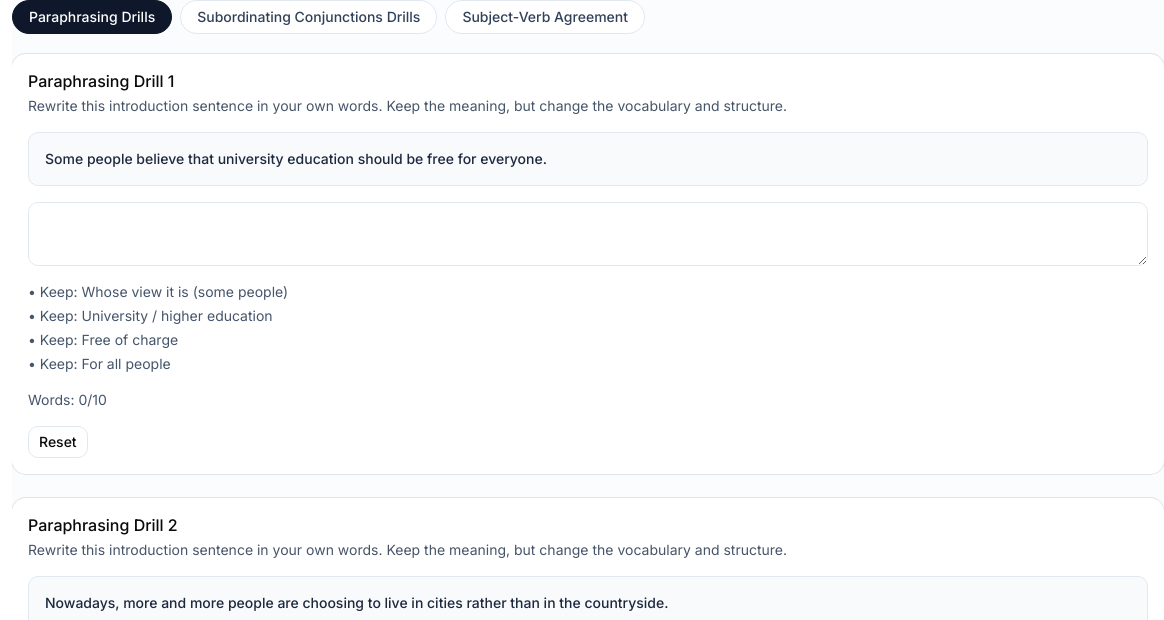
Test: PracticeBank › validates conjunction choices
Click the tab "Subordinating Conjunctions Drills": [309, 17] box [180, 0, 437, 34]
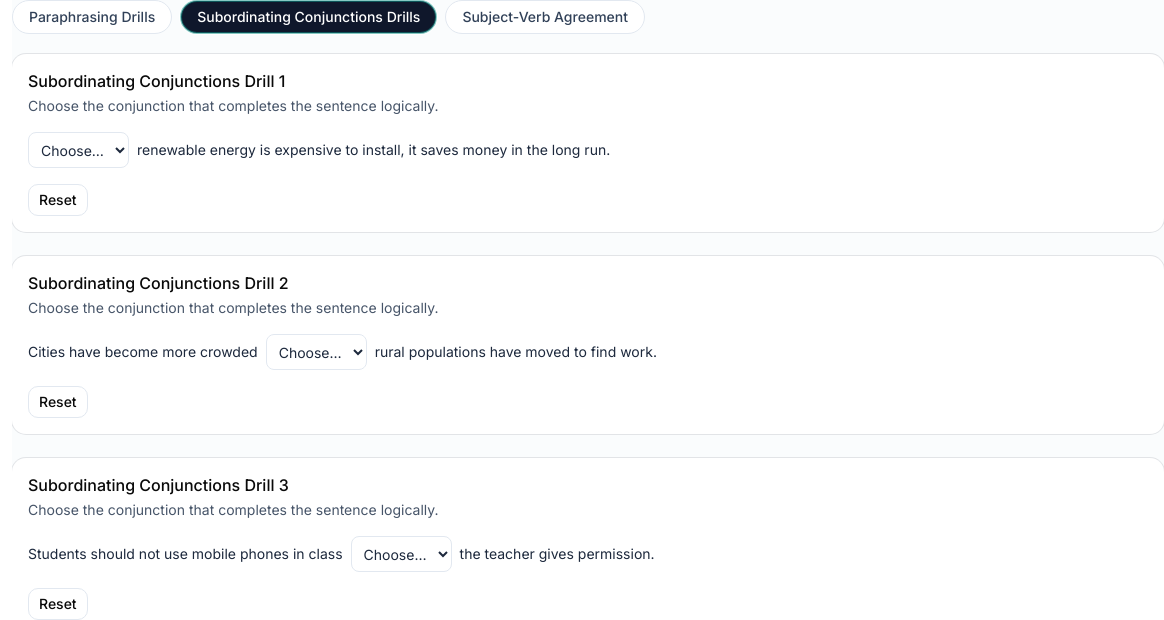
expect the number of dropdowns is 5: met
Select "Because" in the dropdown named "Conjunction 1 blank": [78, 150] box [28, 132, 129, 168]
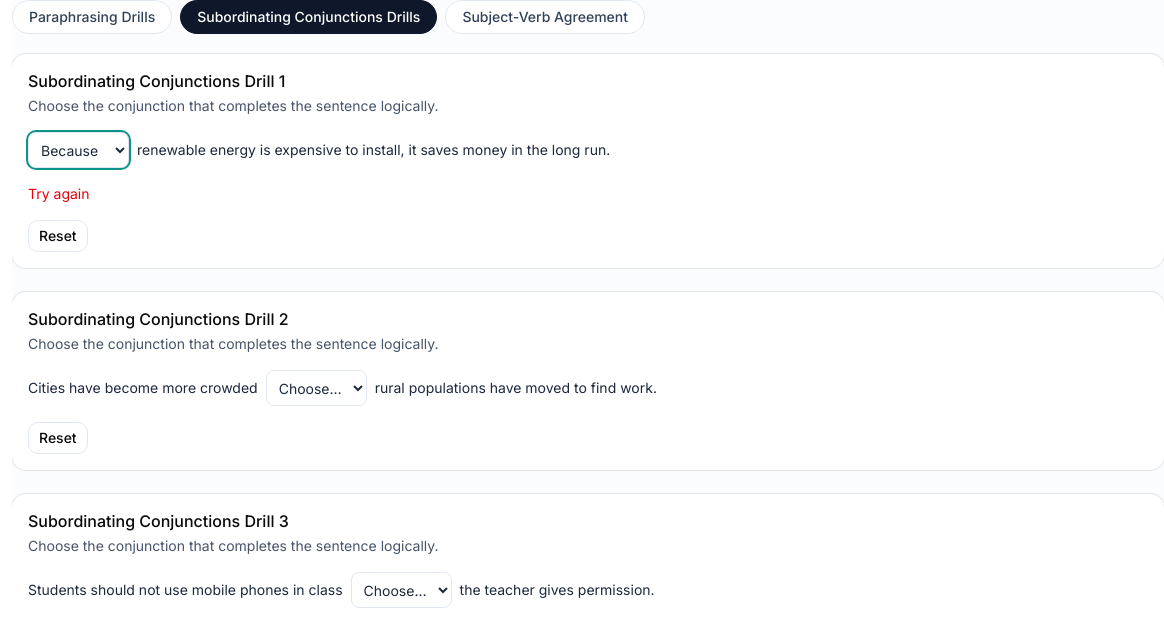
expect the text "Try again" is shown: met, box [28, 185, 90, 202]
Select "Although" in the dropdown named "Conjunction 1 blank": [78, 150] box [28, 132, 129, 168]
(page scrolled)
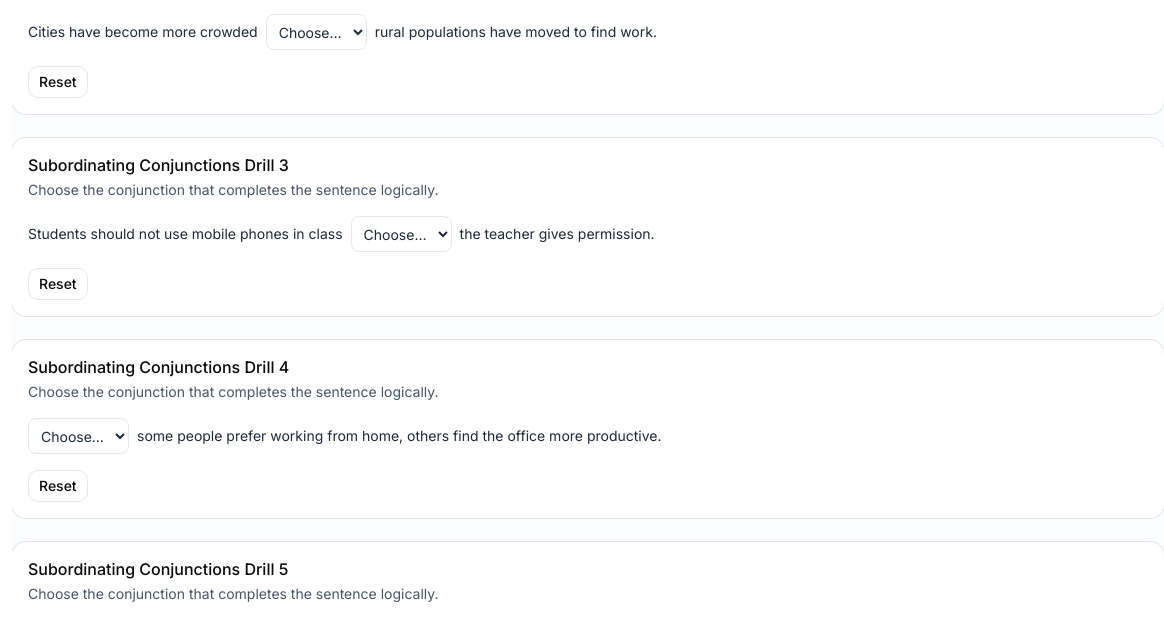
Select "While" in the dropdown named "Conjunction 4 blank": [78, 436] box [28, 418, 129, 454]
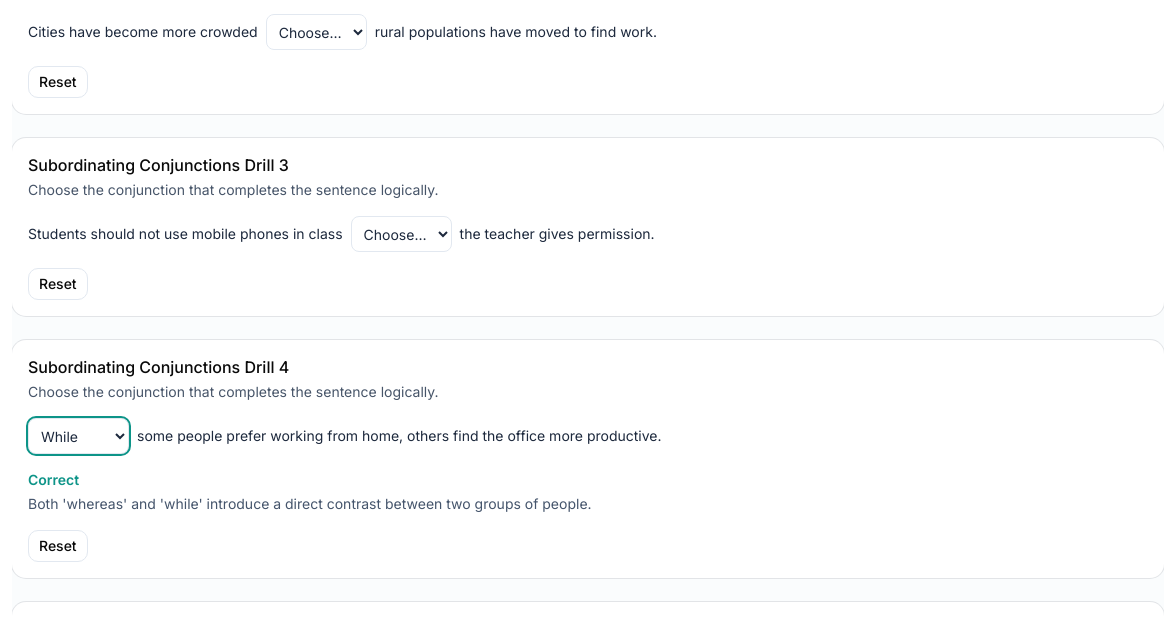
expect the text "Correct" is shown 2 times: met
